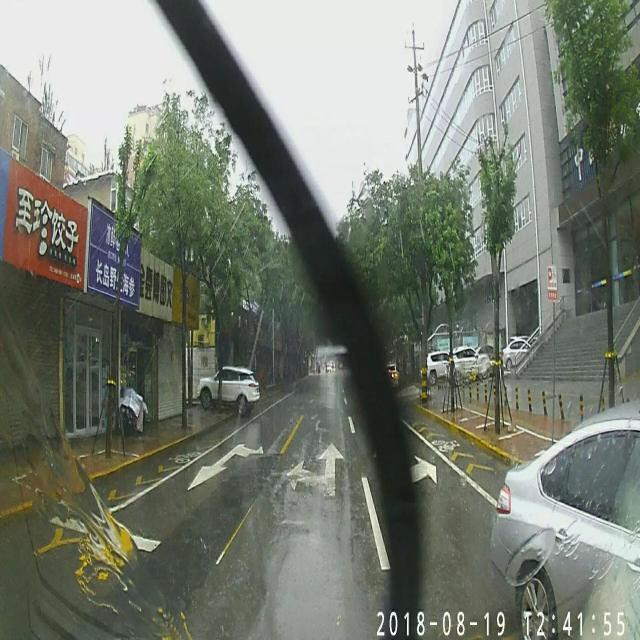car: (490, 416, 640, 638), (198, 364, 258, 416)
